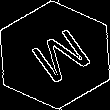M_SE: (18, 21, 92, 89)
